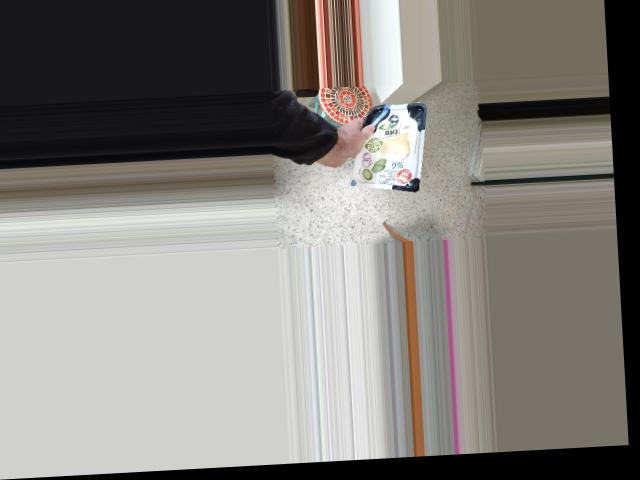cheese: (334, 119, 408, 193)
